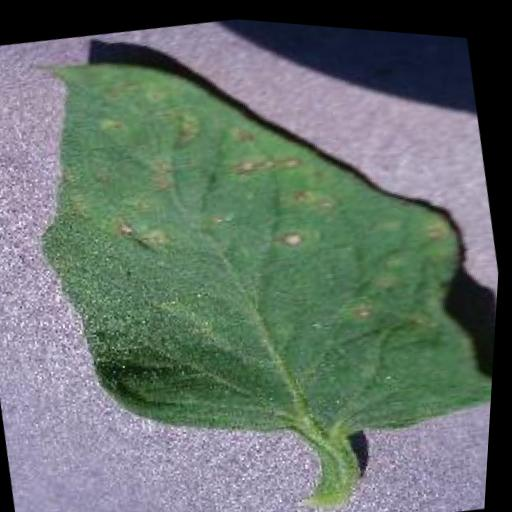Septoria: (4, 2, 512, 489)
